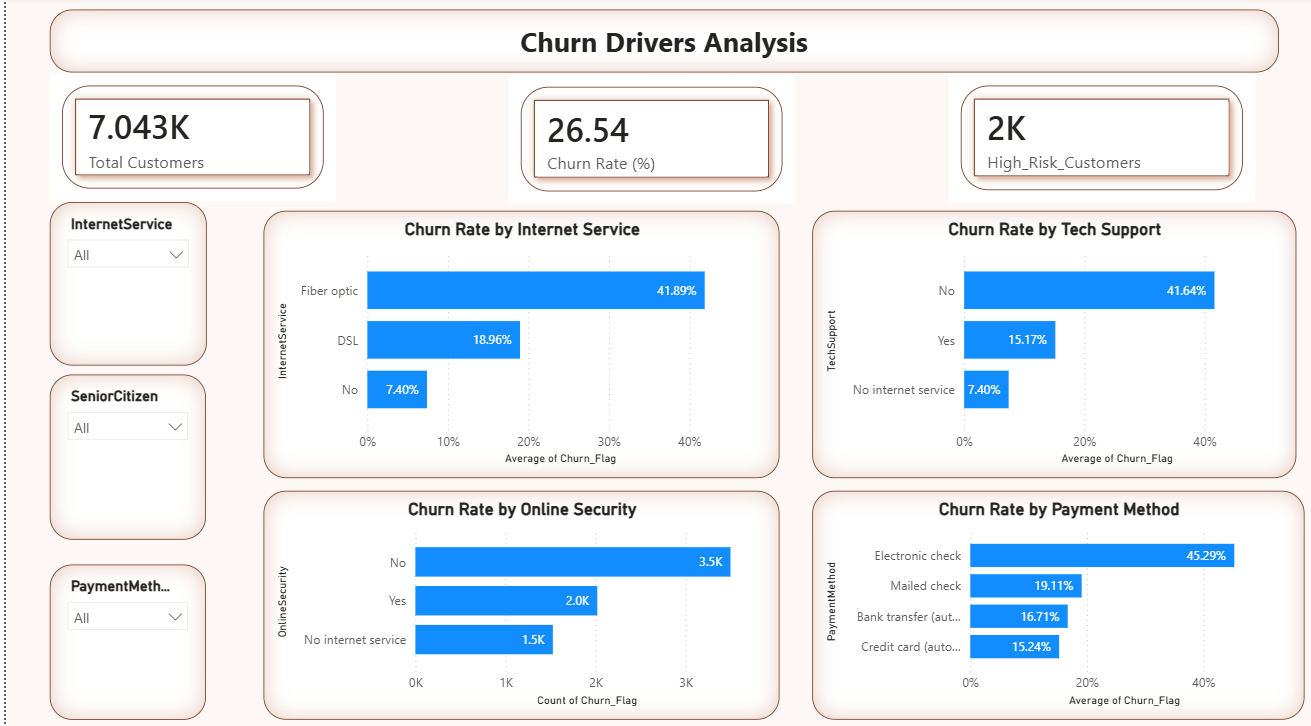

The page's visual inventory and layout, read from the dashboard file:
{"tool":"powerbi","page":{"name":"Churn Drivers Analysis","canvas":[1280,720],"ordinal":1},"visuals":[{"type":"slicer","fields":{"Values":["clean_telco_churn.InternetService"]},"box":[42.5,200,153.8,160],"z":0},{"type":"slicer","fields":{"Values":["clean_telco_churn.SeniorCitizen"]},"box":[42.8,369.3,152.9,161.4],"z":1000},{"type":"slicer","fields":{"Values":["clean_telco_churn.PaymentMethod"]},"box":[42.8,555.2,152.9,151.6],"z":2000},{"type":"clusteredBarChart","title":"Churn Rate by Internet Service","fields":{"Category":["clean_telco_churn.InternetService"],"Y":["Avg(clean_telco_churn.Churn_Flag)"]},"box":[251.9,209.1,505,261.7],"z":3000},{"type":"clusteredBarChart","title":"Churn Rate by Online Security","fields":{"Category":["clean_telco_churn.OnlineSecurity"],"Y":["CountNonNull(clean_telco_churn.Churn_Flag)"]},"box":[251.9,483,505,223.8],"z":4000},{"type":"clusteredBarChart","title":"Churn Rate by Tech Support","fields":{"Category":["clean_telco_churn.TechSupport"],"Y":["Avg(clean_telco_churn.Churn_Flag)"]},"box":[788.7,209.1,473.2,261.7],"z":5000},{"type":"clusteredBarChart","title":"Churn Rate by Payment Method","fields":{"Category":["clean_telco_churn.PaymentMethod"],"Y":["Avg(clean_telco_churn.Churn_Flag)"]},"box":[788.7,483,481.8,223.8],"z":6000},{"type":"textbox","box":[42.5,12.5,1202.5,61.2],"z":7000},{"type":"cardVisual","fields":{"Data":["clean_telco_churn.Churn Rate"]},"box":[491.2,76.2,280,126.2],"z":8000},{"type":"cardVisual","fields":{"Data":["clean_telco_churn.High_Risk_Customers"]},"box":[922.5,75,300,126.2],"z":9000},{"type":"cardVisual","fields":{"Data":["CountNonNull(clean_telco_churn.customerID)"]},"box":[42.5,75,280,125],"z":10000}]}

Visuals, with their boxes in screenshot pixels (x1, y1, x2, y2), scaled from the page's 1280x720 canvas onto the 1311x726 screenshot:
slicer - clean_telco_churn.InternetService: {"left": 44, "top": 202, "right": 201, "bottom": 363}
slicer - clean_telco_churn.SeniorCitizen: {"left": 44, "top": 372, "right": 200, "bottom": 535}
slicer - clean_telco_churn.PaymentMethod: {"left": 44, "top": 560, "right": 200, "bottom": 713}
"Churn Rate by Internet Service" clusteredBarChart: {"left": 258, "top": 211, "right": 775, "bottom": 475}
"Churn Rate by Online Security" clusteredBarChart: {"left": 258, "top": 487, "right": 775, "bottom": 713}
"Churn Rate by Tech Support" clusteredBarChart: {"left": 808, "top": 211, "right": 1292, "bottom": 475}
"Churn Rate by Payment Method" clusteredBarChart: {"left": 808, "top": 487, "right": 1301, "bottom": 713}
textbox: {"left": 44, "top": 13, "right": 1275, "bottom": 74}
cardVisual - clean_telco_churn.Churn Rate: {"left": 503, "top": 77, "right": 790, "bottom": 204}
cardVisual - clean_telco_churn.High_Risk_Customers: {"left": 945, "top": 76, "right": 1252, "bottom": 203}
cardVisual - CountNonNull(clean_telco_churn.customerID): {"left": 44, "top": 76, "right": 330, "bottom": 202}
